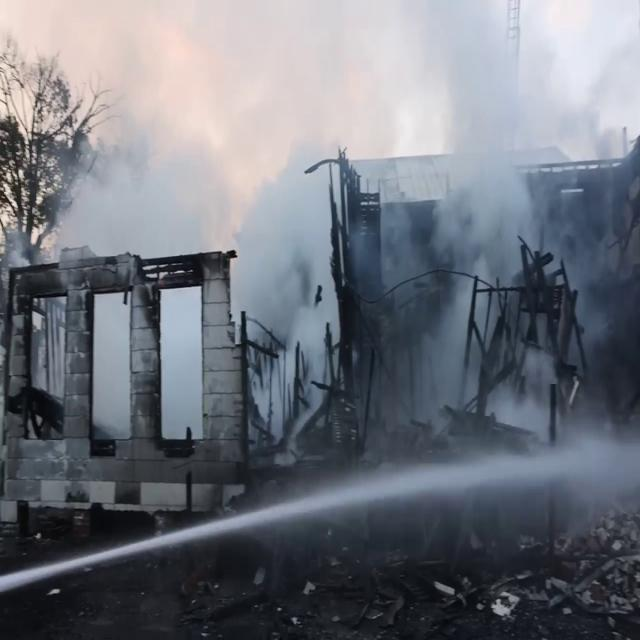Smoke: (187, 170, 628, 600)
